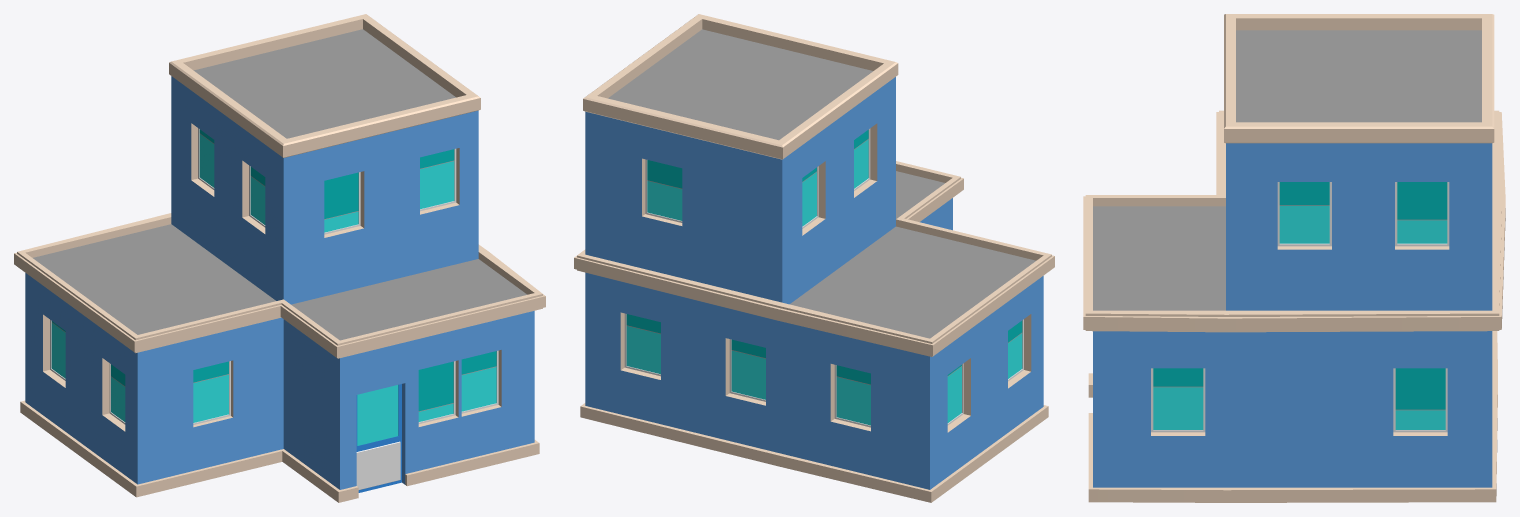
The model's file is SM_House_06_04.FBX.
The picture shows the model from 3 angles, left to right: view 1: azimuth 30°, elevation 25°; view 2: azimuth 150°, elevation 25°; view 3: azimuth 270°, elevation 25°; orthographic projection. The views are drawn at different scales.
Parts seen in each view (by area): view 1: SM_House_06_04; view 2: SM_House_06_04; view 3: SM_House_06_04.
Boxes of the visible parts, left/top/right/bottom form: SM_House_06_04: left=14, top=14, right=545, bottom=502; SM_House_06_04: left=574, top=14, right=1054, bottom=502; SM_House_06_04: left=1083, top=14, right=1505, bottom=502.
Bounding box in the file's own units: 7.35 × 6.2 × 6.35.
Materials: 1 (1 with a texture image).
